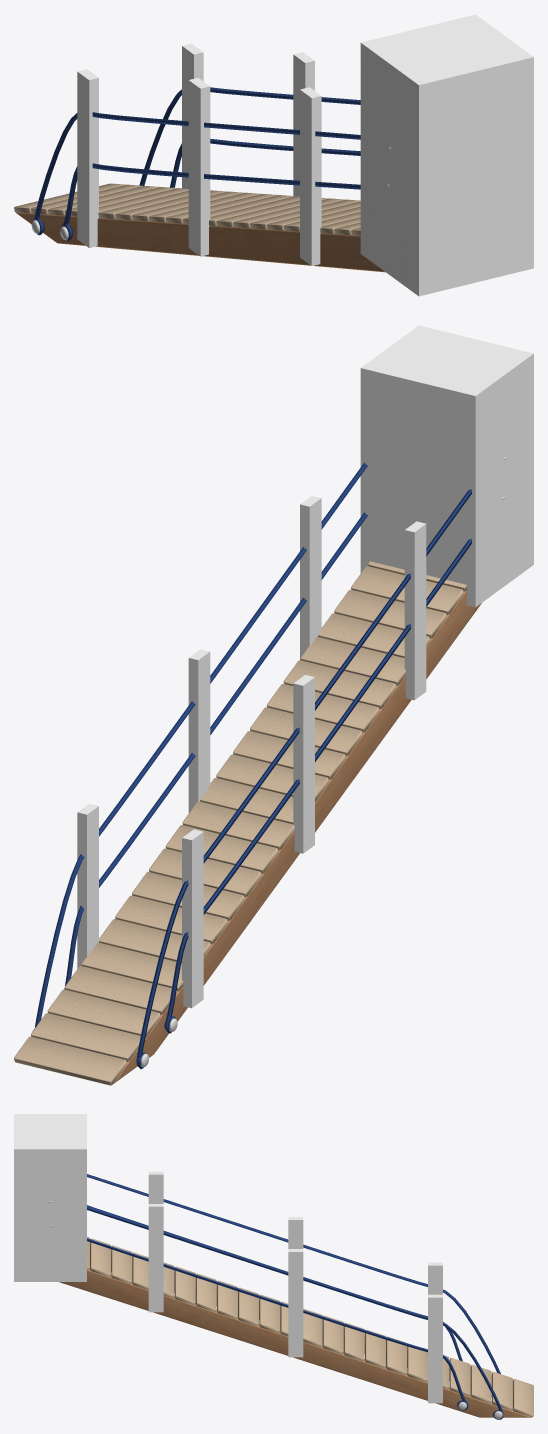
3 views of the same model, one above another, from view 1: azimuth 30°, elevation 25°; view 2: azimuth 150°, elevation 25°; view 3: azimuth 270°, elevation 25° (orthographic). The views are drawn at different scales.
Visible parts, largest first — view 1: joint,0,5, Plane001, Plane070.001, Plane070, Plane070_1; view 2: Plane070.001, joint,0,5, Plane001, Plane070_1, Plane070; view 3: Plane070.001, joint,0,5, Plane070, Plane001, Plane070_1.
Boxes of the visible parts, bbox=[...] form: joint,0,5: bbox=[360, 14, 533, 296]; Plane001: bbox=[77, 43, 321, 265]; Plane070.001: bbox=[14, 183, 360, 235]; Plane070: bbox=[16, 212, 385, 272]; Plane070_1: bbox=[34, 87, 360, 241]; Plane070.001: bbox=[14, 561, 466, 1085]; joint,0,5: bbox=[360, 325, 533, 607]; Plane001: bbox=[77, 496, 426, 1008]; Plane070_1: bbox=[34, 462, 471, 1069]; Plane070: bbox=[113, 591, 481, 1083]; Plane070.001: bbox=[87, 1237, 533, 1417]; joint,0,5: bbox=[14, 1114, 86, 1281]; Plane070: bbox=[59, 1249, 531, 1417]; Plane001: bbox=[148, 1171, 442, 1403]; Plane070_1: bbox=[87, 1174, 503, 1419].
Size of the model in its own units: 0.5779 by 2.05 by 3.55.
6 materials, 3 textured.
